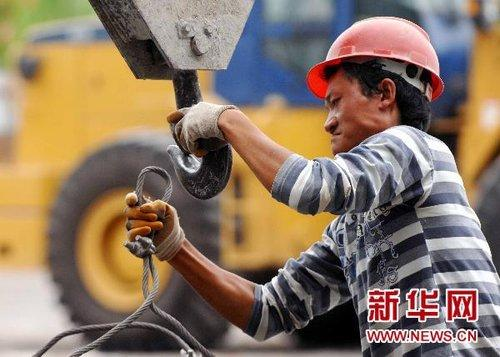helmet: (308, 22, 446, 97)
